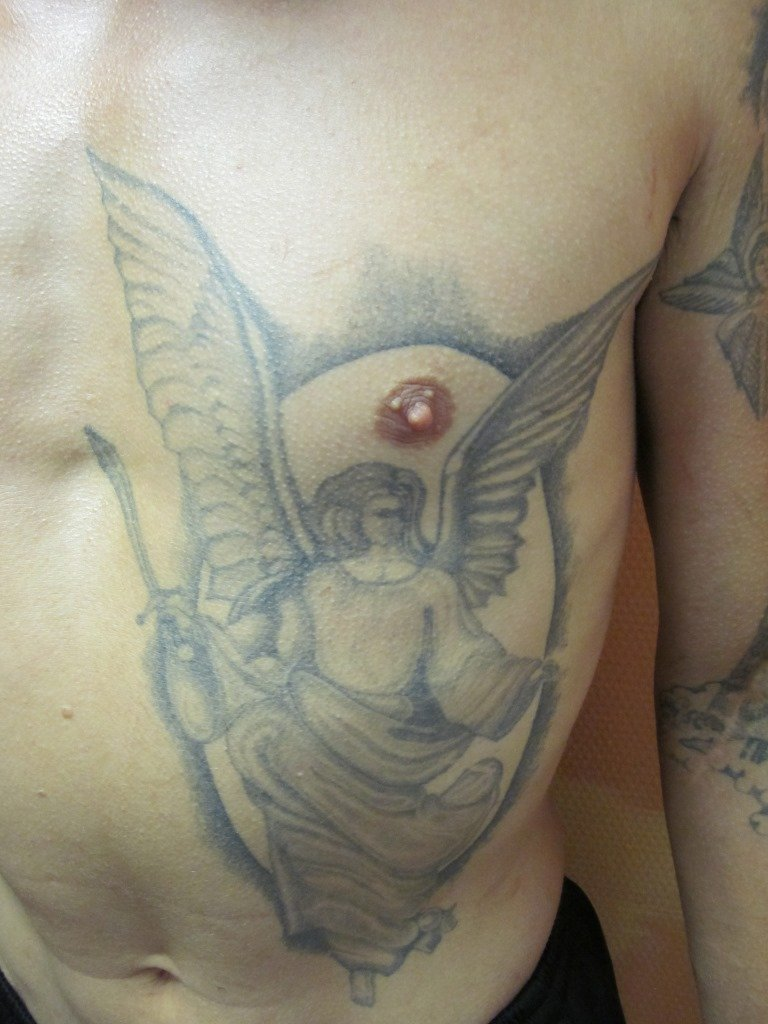tatu1_angel: (63, 153, 656, 1008)
